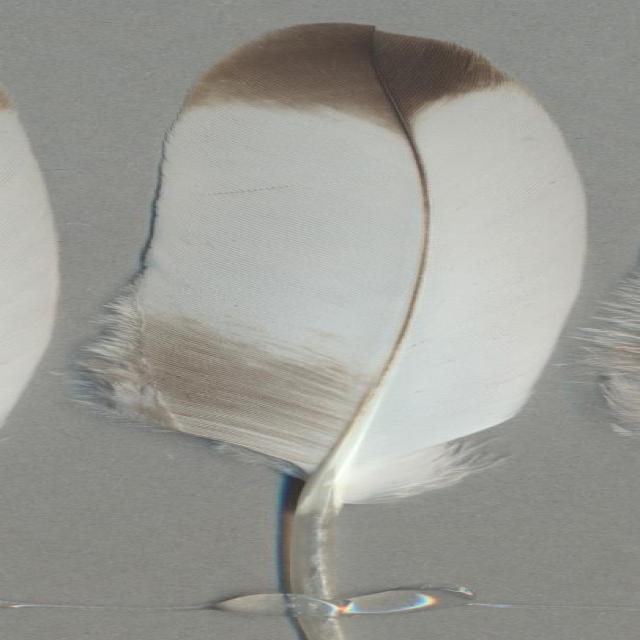feather: (79, 19, 588, 640)
